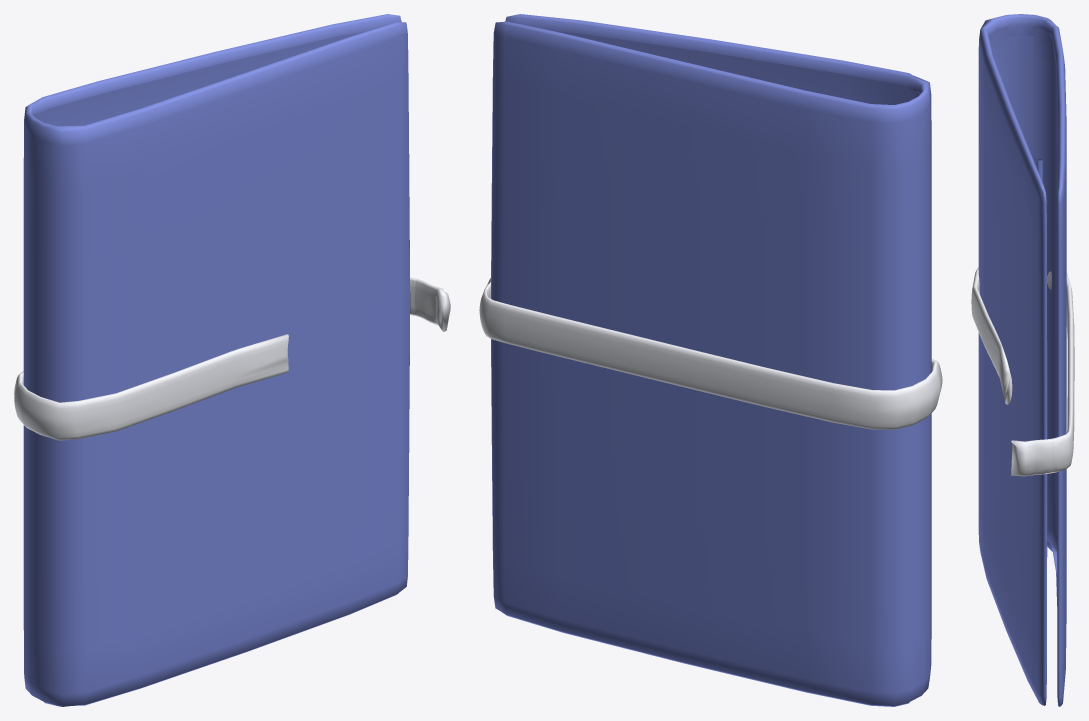
Rendered from capa.fbx.
3 views of the same model, side by side, from view 1: azimuth 30°, elevation 25°; view 2: azimuth 150°, elevation 25°; view 3: azimuth 270°, elevation 25° (orthographic). The views are drawn at different scales.
Parts seen in each view (by area): view 1: capa; view 2: capa; view 3: capa.
Boxes of the visible parts, x1,y1,x2,y2 form: capa: [14, 14, 450, 706]; capa: [479, 14, 942, 706]; capa: [971, 14, 1074, 706].
Bounding box in the file's own units: 0.1715 × 0.2221 × 0.0393.
